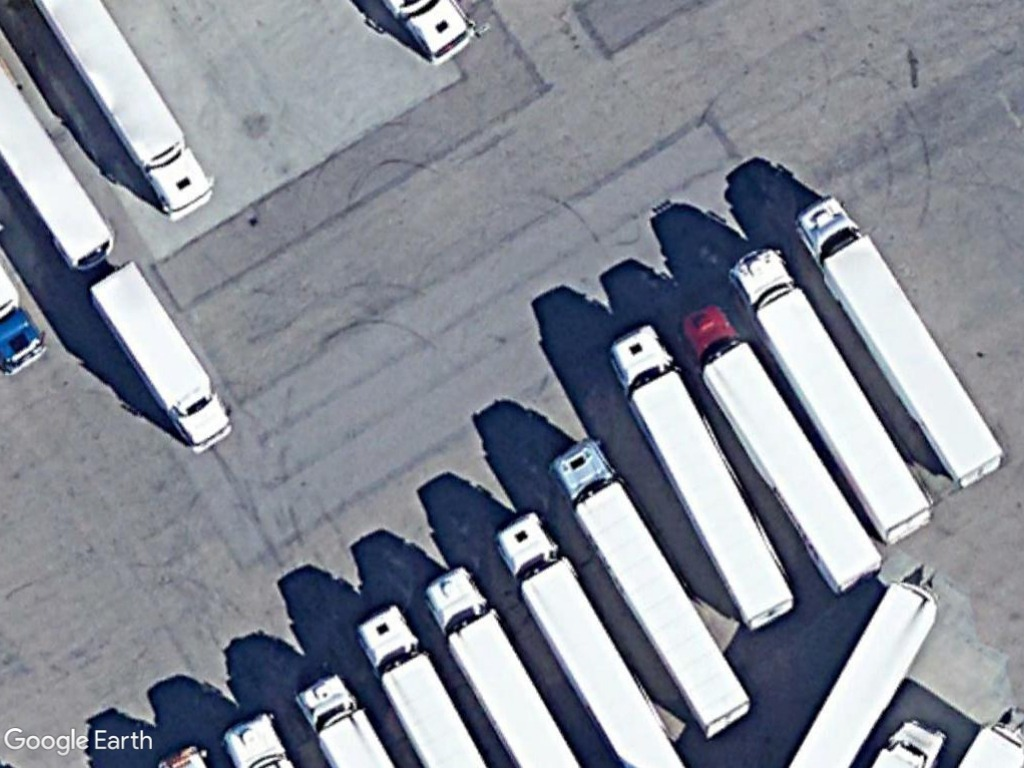truck: (721, 235, 941, 546), (548, 433, 761, 746), (795, 189, 1015, 492), (676, 295, 888, 599), (602, 321, 800, 627), (492, 506, 688, 768), (49, 9, 225, 223), (422, 558, 576, 768), (82, 257, 243, 455)
